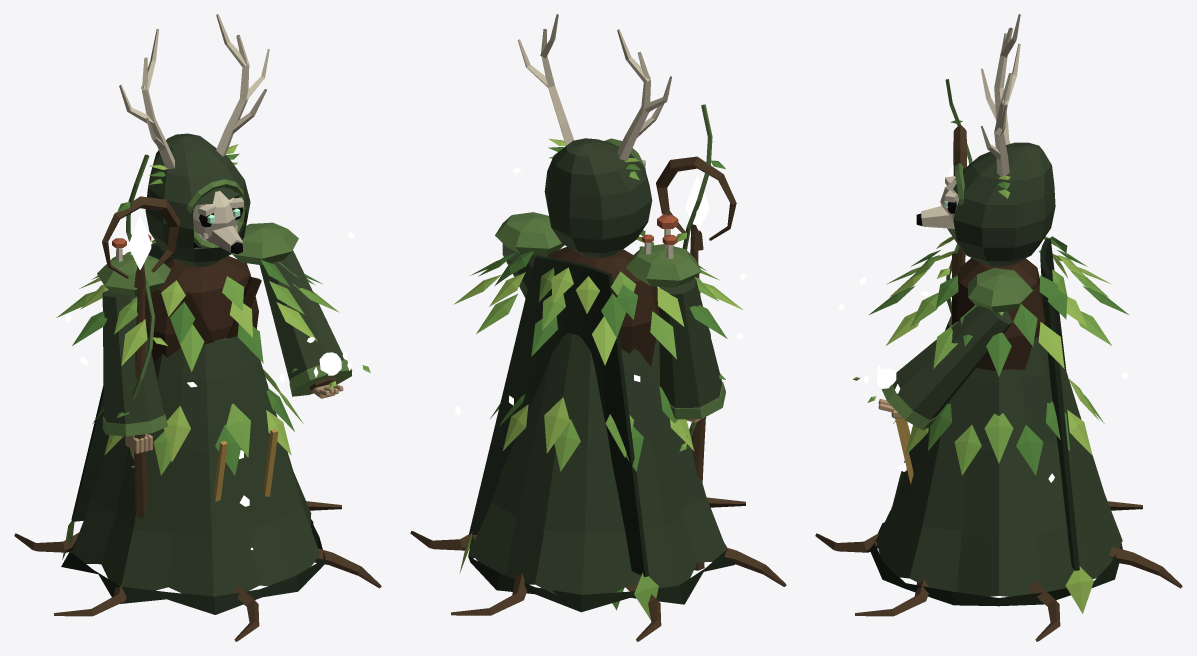
File: DruidMcp.fbx
The picture shows the model from 3 angles, left to right: view 1: azimuth 30°, elevation 25°; view 2: azimuth 150°, elevation 25°; view 3: azimuth 270°, elevation 25°; orthographic projection. The views are drawn at different scales.
Visible parts, largest first — view 1: Root__Robe, Head__Robe, Head__Bone, Torso__Leather, ArmR__Robe, ArmL__Robe, Torso__Moss, Weapon__Bark, Root__RobeDark, Root__Bark, Torso__LeafA, Torso__LeafC (+13 smaller); view 2: Root__Robe, Cape__RobeDark, Head__Robe, ArmR__Robe, Torso__Moss, Torso__Leather, Head__Bone, Root__RobeDark, Root__Bark, Weapon__Bark, Torso__LeafC, Torso__LeafA (+11 smaller); view 3: Root__Robe, Head__Robe, ArmL__Robe, Head__Bone, Torso__Leather, Root__Bark, Cape__RobeDark, Torso__LeafB, Root__RobeDark, Torso__Moss, Torso__LeafC, Torso__LeafA (+6 smaller).
Boxes of the visible parts, x1=… form: Root__Robe: x1=72, y1=336, x2=320, y2=596; Head__Robe: x1=145, y1=133, x2=250, y2=266; Head__Bone: x1=119, y1=14, x2=269, y2=254; Torso__Leather: x1=145, y1=256, x2=258, y2=363; ArmR__Robe: x1=102, y1=290, x2=164, y2=424; ArmL__Robe: x1=259, y1=250, x2=345, y2=381; Torso__Moss: x1=97, y1=222, x2=298, y2=296; Weapon__Bark: x1=102, y1=196, x2=180, y2=517; Root__RobeDark: x1=61, y1=519, x2=325, y2=614; Root__Bark: x1=14, y1=501, x2=381, y2=641; Torso__LeafA: x1=56, y1=251, x2=339, y2=372; Torso__LeafC: x1=79, y1=240, x2=317, y2=365; Root__Robe: x1=469, y1=333, x2=725, y2=595; Cape__RobeDark: x1=469, y1=255, x2=648, y2=577; Head__Robe: x1=544, y1=138, x2=652, y2=257; ArmR__Robe: x1=659, y1=278, x2=722, y2=407; Torso__Moss: x1=495, y1=212, x2=701, y2=287; Torso__Leather: x1=548, y1=246, x2=659, y2=366; Head__Bone: x1=517, y1=14, x2=671, y2=166; Root__RobeDark: x1=468, y1=535, x2=734, y2=612; Root__Bark: x1=410, y1=497, x2=786, y2=641; Weapon__Bark: x1=656, y1=156, x2=736, y2=570; Torso__LeafC: x1=453, y1=236, x2=742, y2=365; Torso__LeafA: x1=476, y1=230, x2=719, y2=359; Root__Robe: x1=876, y1=314, x2=1122, y2=596; Head__Robe: x1=947, y1=142, x2=1055, y2=266; ArmL__Robe: x1=892, y1=305, x2=1012, y2=420; Head__Bone: x1=921, y1=14, x2=1020, y2=228; Torso__Leather: x1=953, y1=258, x2=1044, y2=422; Root__Bark: x1=815, y1=501, x2=1182, y2=641; Cape__RobeDark: x1=1040, y1=238, x2=1079, y2=570; Torso__LeafB: x1=869, y1=250, x2=1128, y2=376; Root__RobeDark: x1=870, y1=522, x2=1122, y2=606; Torso__Moss: x1=968, y1=268, x2=1032, y2=312; Torso__LeafC: x1=886, y1=236, x2=1111, y2=368; Torso__LeafA: x1=886, y1=236, x2=1111, y2=368.
Size of the model in its own units: 2.21 by 3.48 by 2.14.
